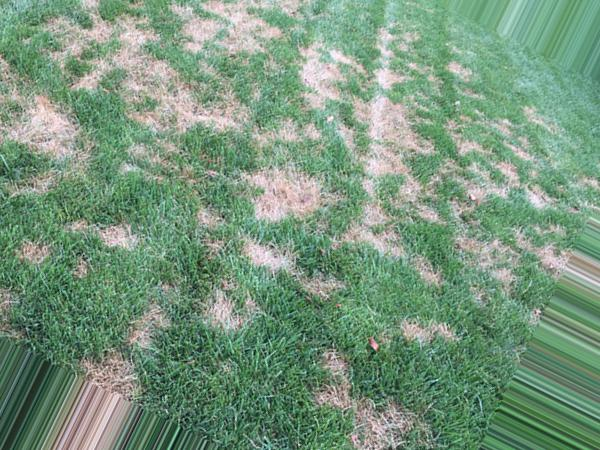patch: (187, 11, 259, 46), (253, 176, 318, 214), (356, 102, 401, 141), (145, 71, 178, 124), (29, 106, 62, 147), (359, 146, 400, 175), (203, 297, 233, 324), (119, 25, 134, 66)
